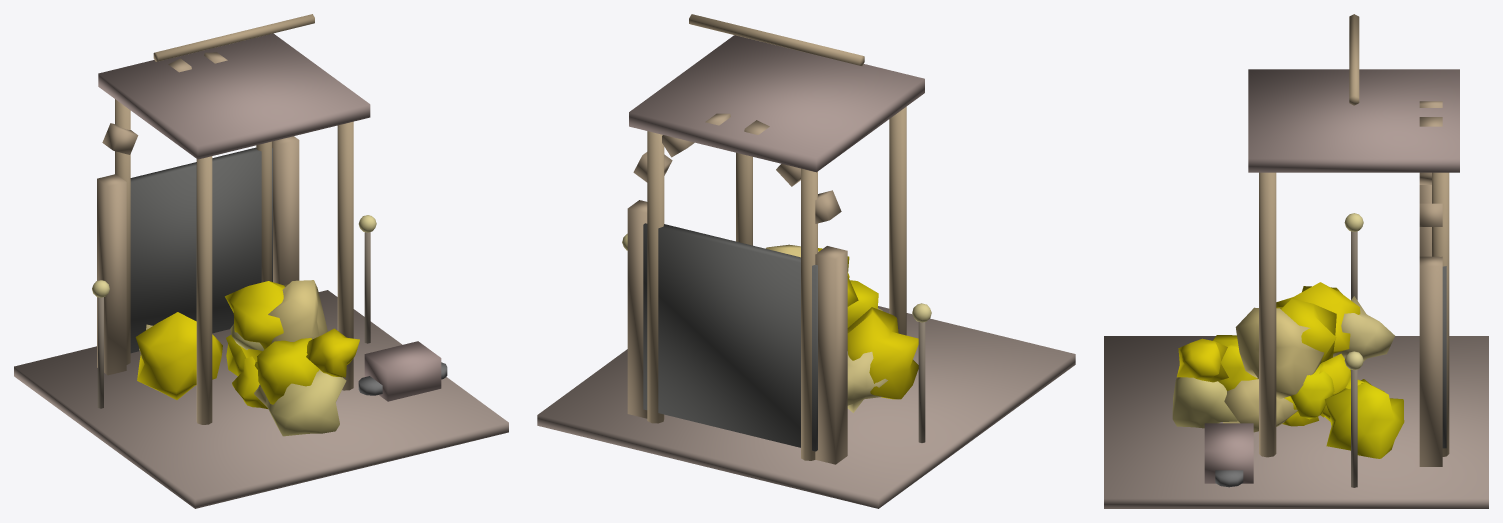
File: ore_gold_large.glb
The picture shows the model from 3 angles, left to right: view 1: azimuth 30°, elevation 25°; view 2: azimuth 150°, elevation 25°; view 3: azimuth 270°, elevation 25°; orthographic projection. The views are drawn at different scales.
Parts seen in each view (by area): view 1: ore_base, tower_platform, arch_dark, arch_post-1, tower_post2, ore10, arch_post1, tower_post3, cart_body, ore4, ore12, ore11 (+10 smaller); view 2: ore_base, arch_dark, tower_platform, arch_post-1, ore10, tower_post1, tower_post2, arch_post1, tower_post0, tower_beam, tower_post3, ore7 (+3 smaller); view 3: ore_base, tower_platform, tower_post3, arch_post1, ore2, ore15, cart_body, ore4, tower_post1, ore12, ore7, ore13 (+12 smaller).
Part boxes in pixels (box(x1,y1,x2,y2)): ore_base: box(14, 290, 508, 508); tower_platform: box(98, 33, 370, 159); arch_dark: box(130, 147, 272, 353); arch_post-1: box(97, 174, 126, 375); tower_post2: box(196, 156, 212, 424); ore10: box(135, 312, 222, 399); arch_post1: box(272, 136, 299, 284); tower_post3: box(337, 121, 353, 390); cart_body: box(364, 341, 441, 401); ore4: box(266, 370, 346, 436); ore12: box(225, 281, 284, 361); ore11: box(257, 338, 318, 404); ore_base: box(537, 306, 1075, 508); arch_dark: box(643, 223, 817, 451); tower_platform: box(629, 35, 924, 172); arch_post-1: box(815, 246, 847, 464); ore10: box(847, 307, 918, 399); tower_post1: box(647, 131, 664, 423); tower_post2: box(889, 106, 906, 335); arch_post1: box(627, 200, 647, 418); tower_post0: box(801, 168, 817, 460); tower_beam: box(689, 14, 864, 65); tower_post3: box(736, 152, 752, 245); ore7: box(847, 351, 887, 412); ore_base: box(1104, 336, 1488, 508); tower_platform: box(1248, 69, 1459, 172); tower_post3: box(1259, 172, 1276, 457); arch_post1: box(1419, 256, 1442, 466); ore2: box(1324, 382, 1404, 458); ore15: box(1235, 307, 1323, 399); cart_body: box(1204, 423, 1253, 483); ore4: box(1172, 377, 1237, 428); tower_post1: box(1432, 172, 1449, 456); ore12: box(1276, 299, 1336, 363); ore7: box(1333, 296, 1394, 360); ore13: box(1177, 338, 1228, 382).
Bounding box in the file's own units: 40 × 43.93 × 40.
